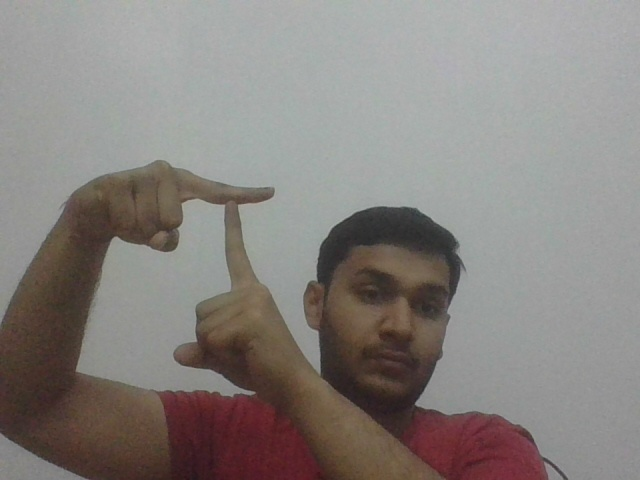T: (187, 167, 285, 287)
